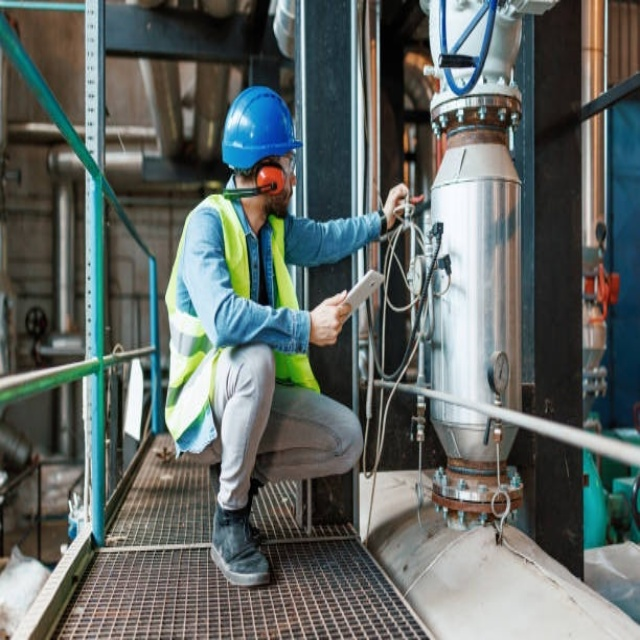Gafas: (267, 152, 300, 179)
Sin_guantes: (310, 290, 353, 345), (382, 179, 410, 231)
